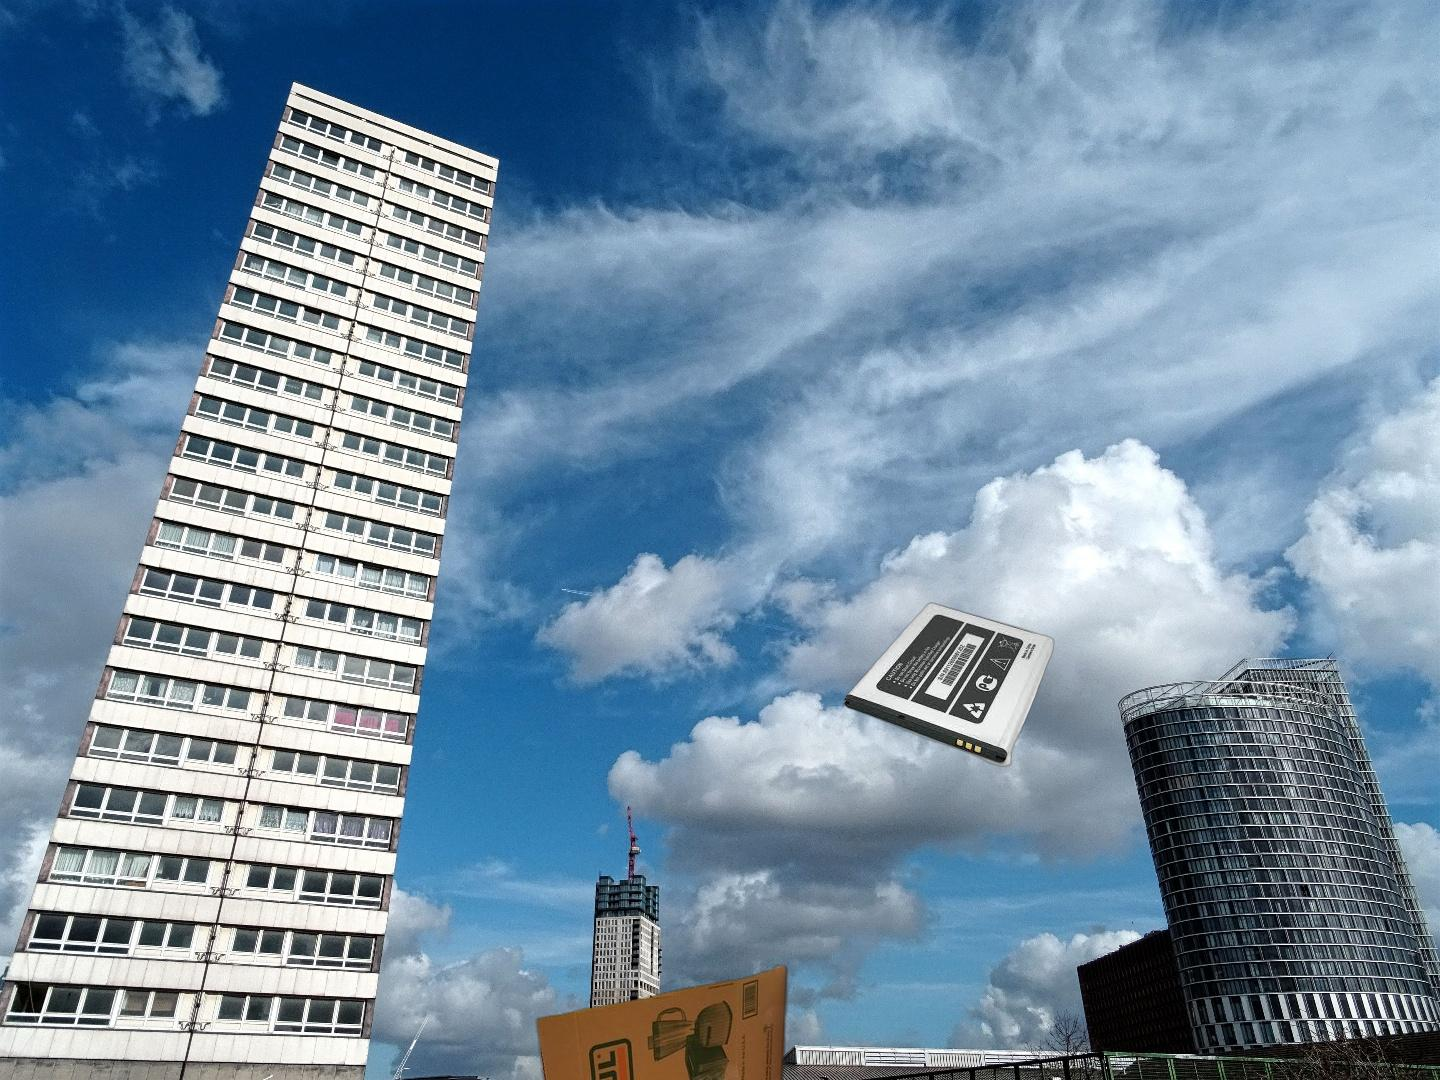battery: (841, 600, 1057, 769)
trashbox-cardboard: (531, 961, 794, 1080)
